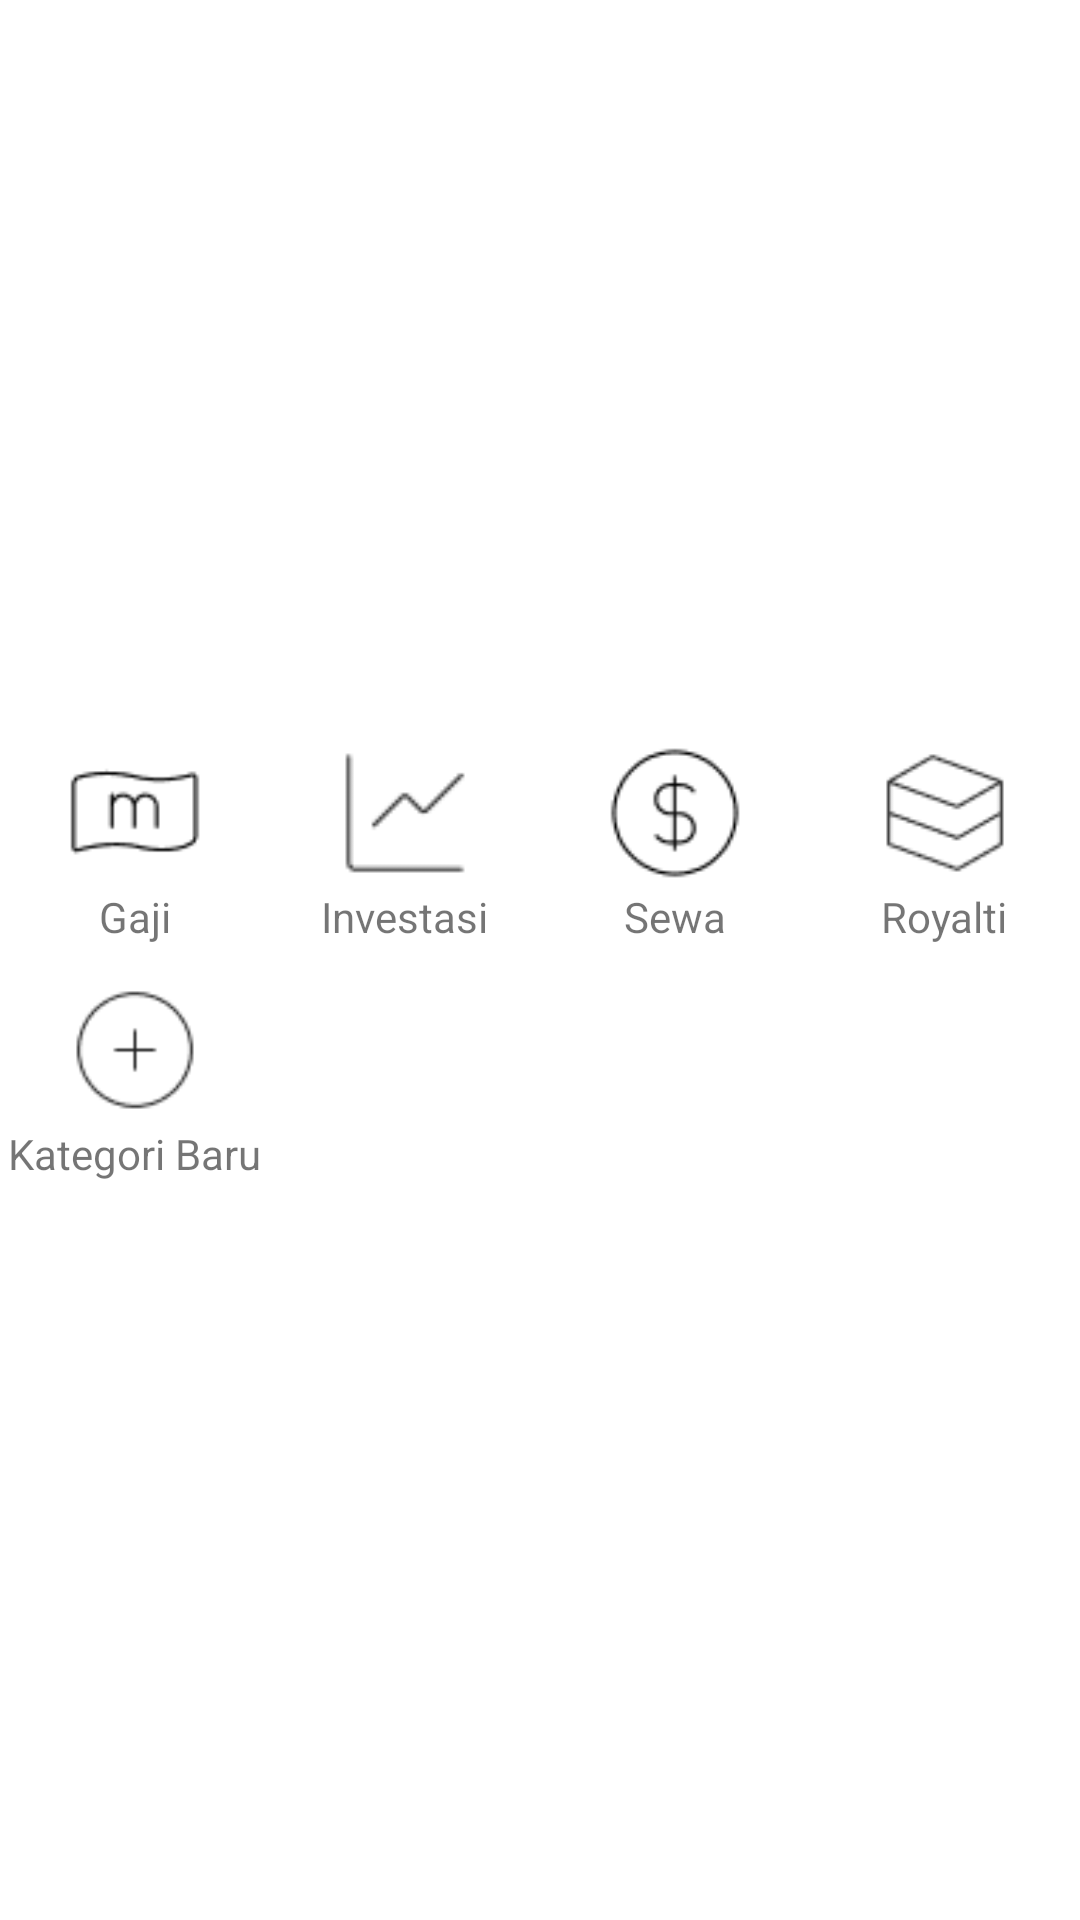

Where icons sit on this 1080 × 1920 app screen, as (x1, y1, x2, y2):
add: (76, 991, 194, 1109)
